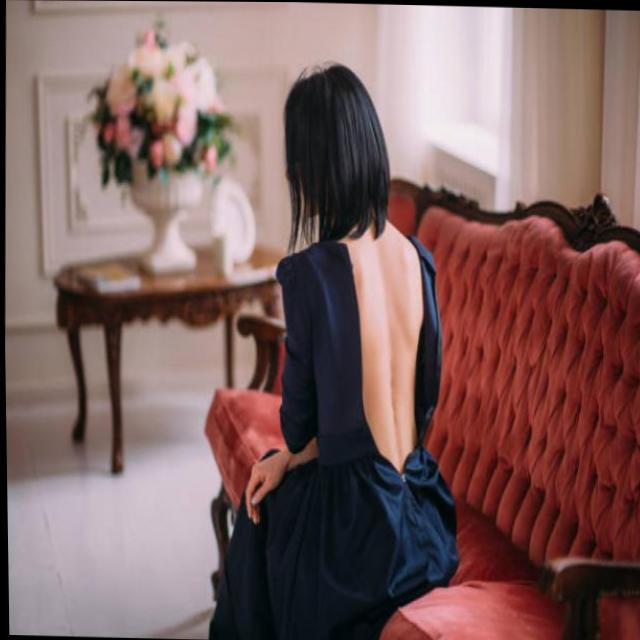no helmet: (279, 55, 397, 245)
